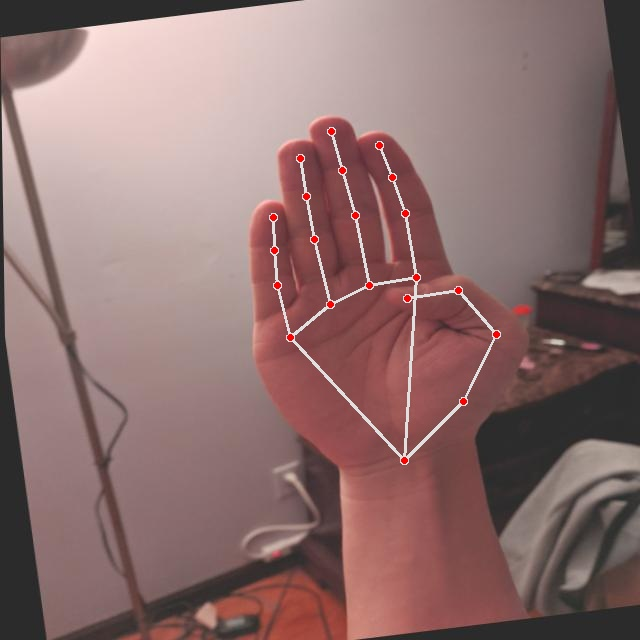B: (209, 88, 551, 493)
